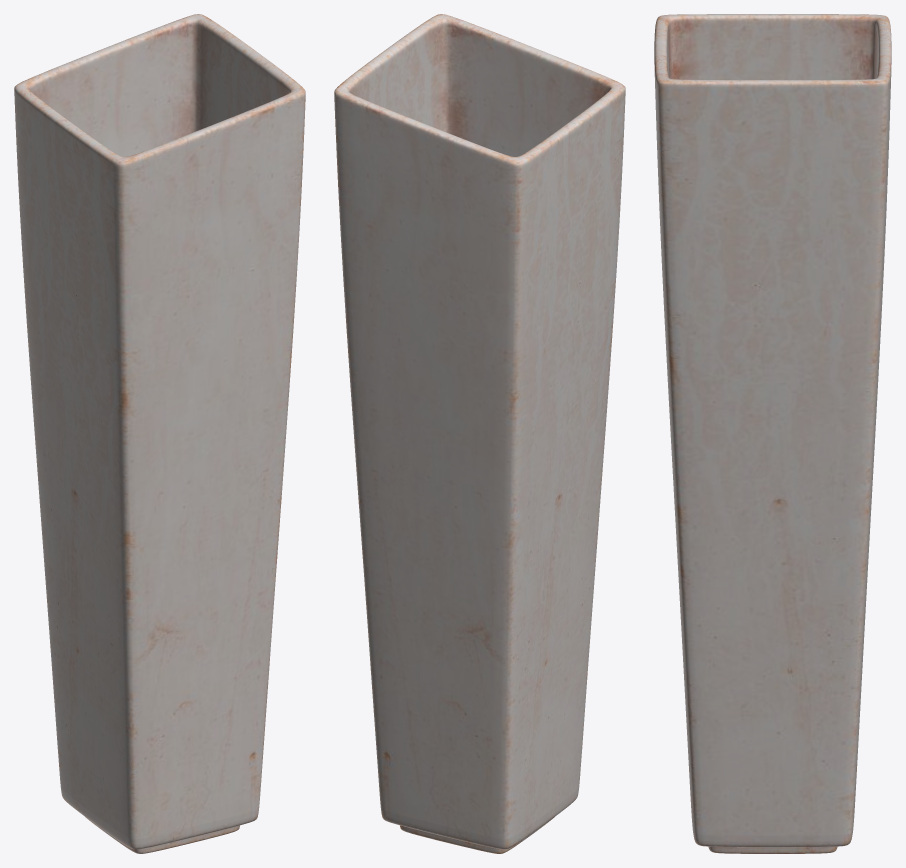
File: ceramic_vase_03.glb
3 views of the same model, side by side, from view 1: azimuth 30°, elevation 25°; view 2: azimuth 150°, elevation 25°; view 3: azimuth 270°, elevation 25° (orthographic). The views are drawn at different scales.
Parts seen in each view (by area): view 1: ceramic_vase_03; view 2: ceramic_vase_03; view 3: ceramic_vase_03.
Boxes of the visible parts, bbox=[...] form: ceramic_vase_03: bbox=[14, 14, 305, 853]; ceramic_vase_03: bbox=[334, 14, 625, 853]; ceramic_vase_03: bbox=[654, 14, 891, 853].
Size of the model in its own units: 0.1123 by 0.4144 by 0.1123.
Materials: 1 (1 with a texture image).
